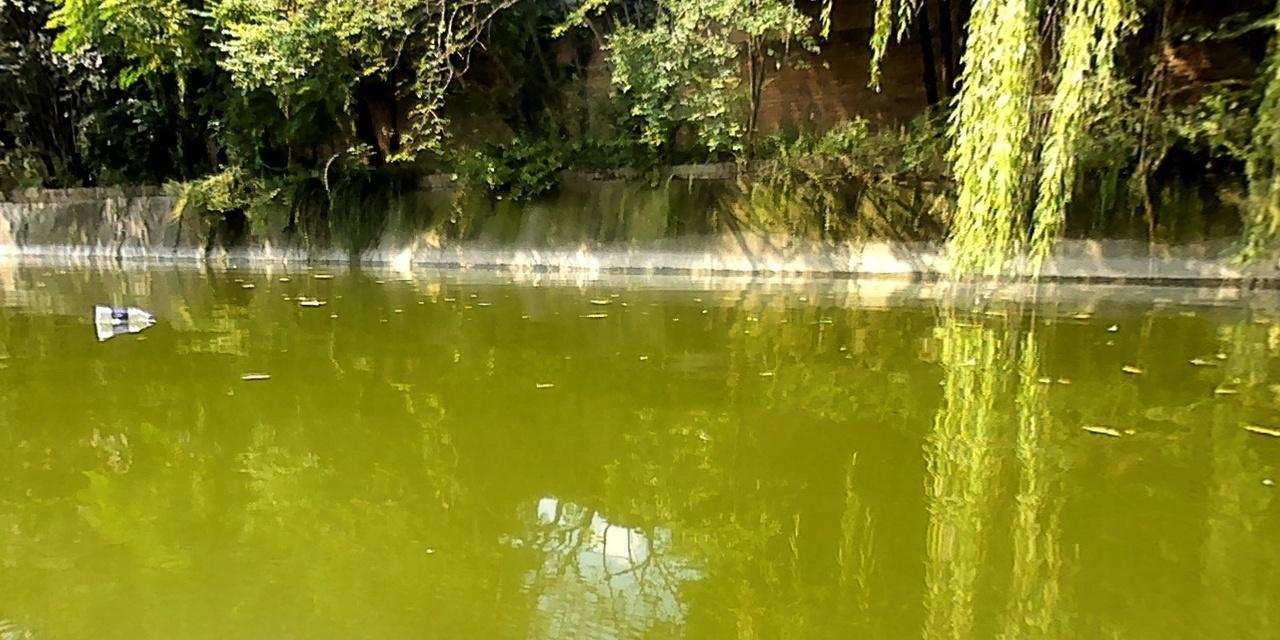bottle: (91, 300, 157, 325)
